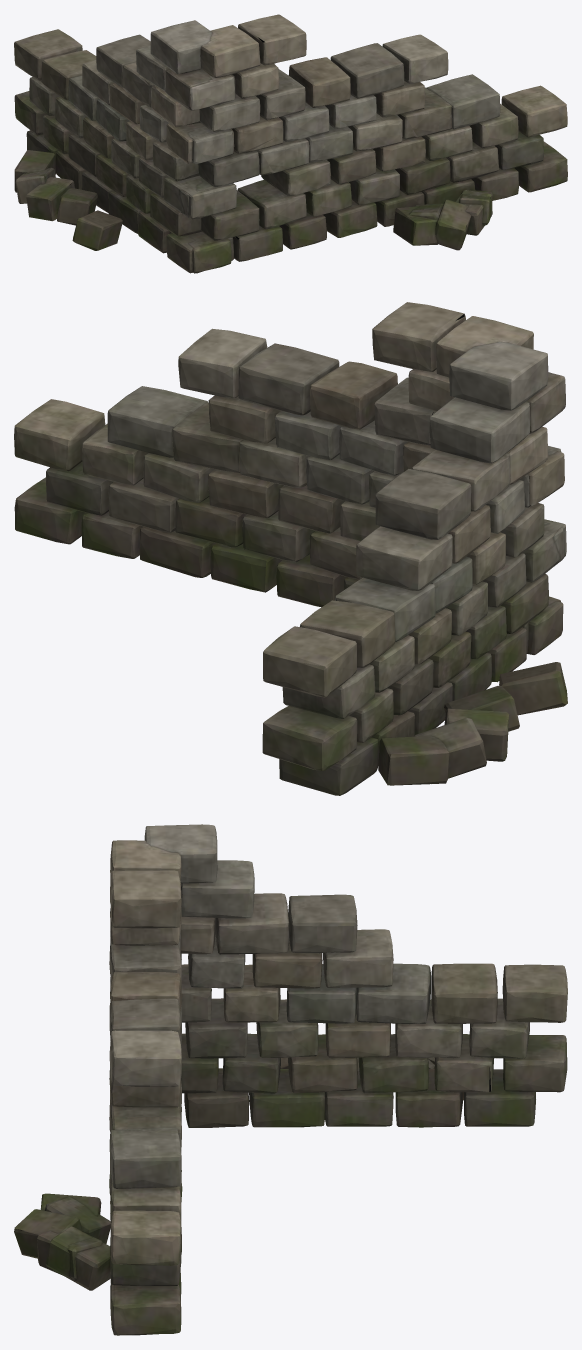
The model's file is costa_ruina_L_g.glb.
3 renders of one model, top to bottom at view 1: azimuth 30°, elevation 25°; view 2: azimuth 150°, elevation 25°; view 3: azimuth 270°, elevation 25°, orthographic. The views are drawn at different scales.
Parts seen in each view (by area): view 1: costa_ruina_L_g_tronco; view 2: costa_ruina_L_g_tronco; view 3: costa_ruina_L_g_tronco.
Boxes of the visible parts, box(x1,y1,x2,y2) form: costa_ruina_L_g_tronco: box(14, 14, 567, 273); costa_ruina_L_g_tronco: box(14, 302, 567, 795); costa_ruina_L_g_tronco: box(14, 824, 567, 1335).
Size of the model in its own units: 6.44 by 3.14 by 5.48.
Materials: 1 (1 with a texture image).
